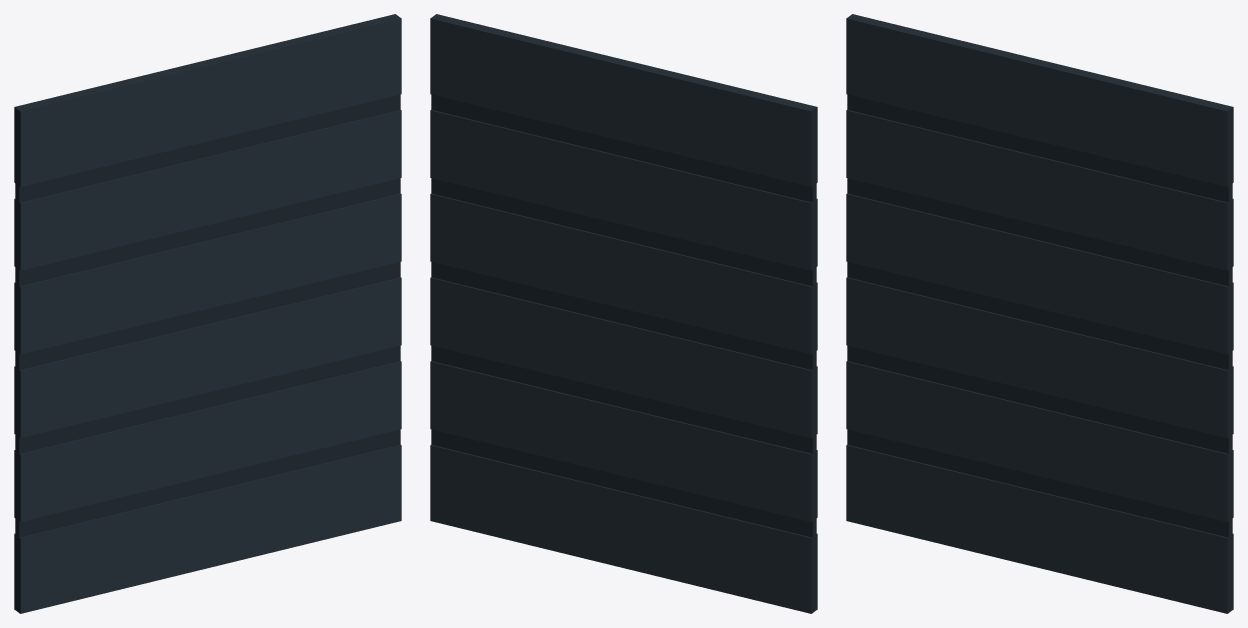
The model's file is SM_Buildings_Car_Service_Gate_01.fbx.
3 renders of one model, left to right at view 1: azimuth 30°, elevation 25°; view 2: azimuth 150°, elevation 25°; view 3: azimuth 330°, elevation 25°, orthographic.
Visible parts, largest first — view 1: SM_Buildings_Car_Service_Gate_01; view 2: SM_Buildings_Car_Service_Gate_01; view 3: SM_Buildings_Car_Service_Gate_01.
Boxes of the visible parts, x1,y1,x2,y2 form: SM_Buildings_Car_Service_Gate_01: [14, 14, 401, 613]; SM_Buildings_Car_Service_Gate_01: [430, 14, 817, 613]; SM_Buildings_Car_Service_Gate_01: [846, 14, 1233, 613].
Size of the model in its own units: 3.5 by 4.41 by 0.0988.
